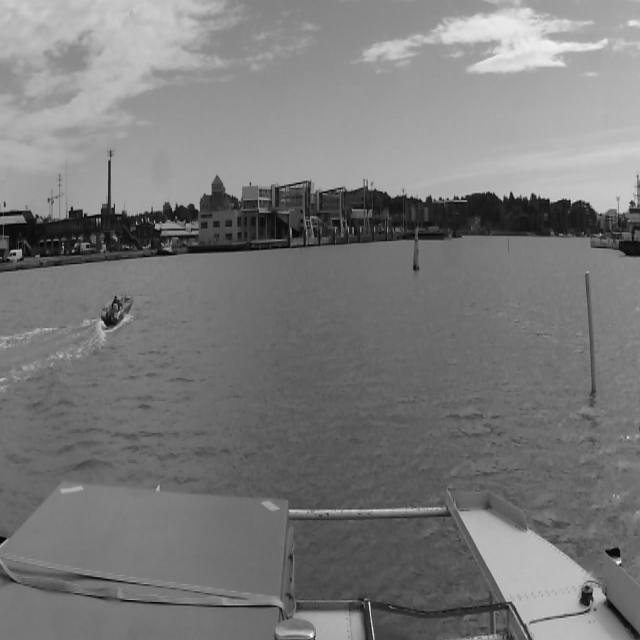buoy: (585, 270, 597, 394), (412, 228, 420, 271), (508, 238, 510, 252)
ship: (101, 293, 133, 330)
